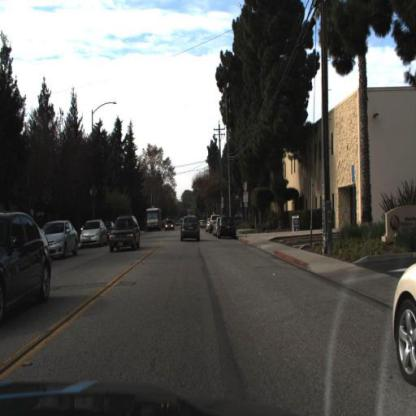car: (2, 210, 53, 319), (393, 260, 416, 390), (44, 220, 81, 261), (108, 214, 140, 254), (78, 219, 109, 250), (178, 217, 203, 244), (217, 216, 238, 240)
truck: (145, 205, 163, 232)
